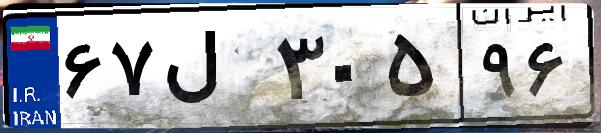0: (330, 28, 385, 110)
3: (270, 28, 330, 110)
5: (385, 28, 445, 110)
6: (57, 26, 110, 100), (525, 38, 570, 115)
7: (110, 28, 158, 98)
9: (475, 38, 525, 113)
ل: (158, 20, 270, 120)
